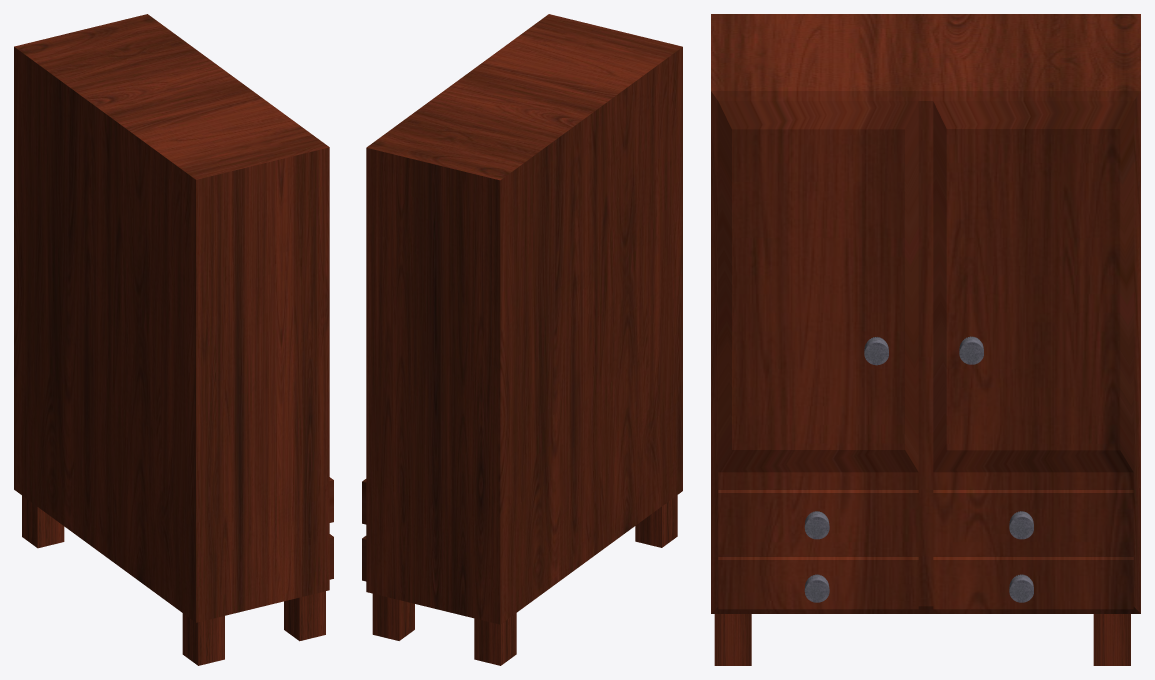
Rendered from cupboard.fbx.
3 renders of one model, left to right at view 1: azimuth 30°, elevation 25°; view 2: azimuth 150°, elevation 25°; view 3: azimuth 270°, elevation 25°, orthographic. The views are drawn at different scales.
Parts seen in each view (by area): view 1: Cupboard, Cube.010, Cube.009, Cupboard Feet; view 2: Cupboard, Cupboard Feet, Cube.007, Cube.010; view 3: Cupboard, Cube.007, Cube.009.
Boxes of the visible parts, left/top/right/bottom form: Cupboard: left=14, top=14, right=333, bottom=622; Cube.010: left=182, top=613, right=224, bottom=665; Cube.009: left=284, top=591, right=325, bottom=641; Cupboard Feet: left=22, top=495, right=64, bottom=548; Cupboard: left=362, top=14, right=682, bottom=624; Cupboard Feet: left=474, top=613, right=516, bottom=665; Cube.007: left=372, top=593, right=414, bottom=640; Cube.010: left=635, top=495, right=677, bottom=547; Cupboard: left=711, top=14, right=1140, bottom=613; Cube.007: left=1093, top=614, right=1130, bottom=665; Cube.009: left=714, top=614, right=751, bottom=665.
Size of the model in its own units: 76.91 by 230 by 156.
Materials: 2 (2 with a texture image).
